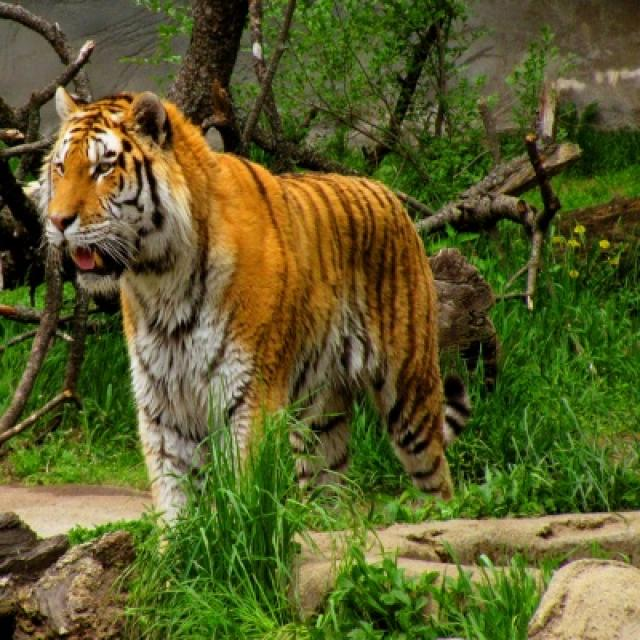Tiger: (44, 86, 460, 499)
